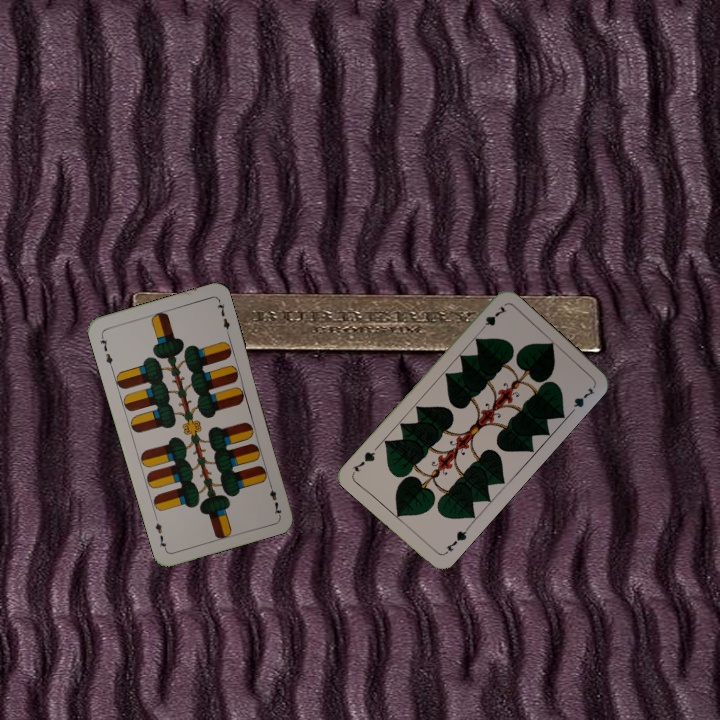E7: (96, 331, 115, 371), (265, 478, 284, 518)
G7: (475, 301, 510, 335), (440, 523, 471, 557)
